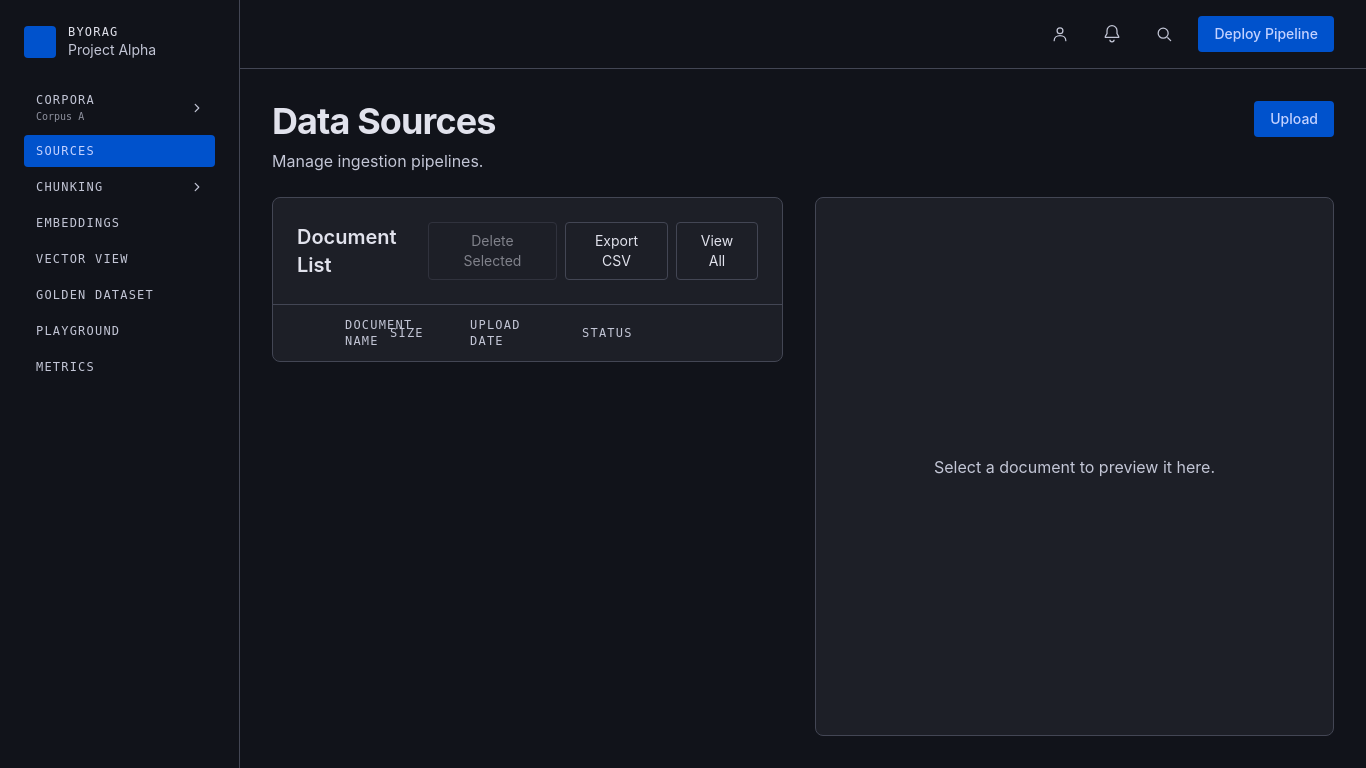
Test: MetricsScreen — every pipeline for the active corpus is visible at once (031-playground-metrics-redesign US2) › shows no in-screen corpus-picker control
This screenshot has width=1366, height=768.
Click the link "METRICS": (66, 367) [36,360,95,374]
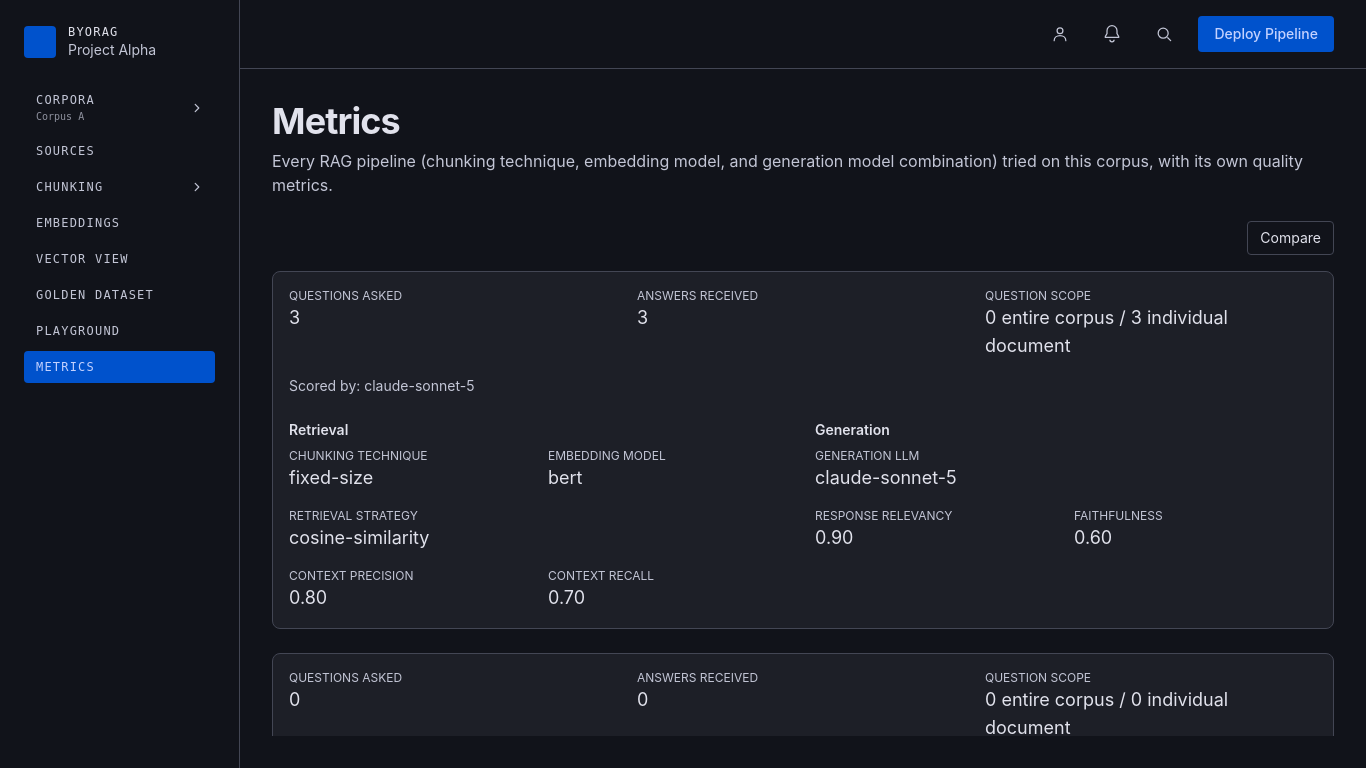
Check: the list item with test id "metrics-pipeline-fixed-size-bert" is shown, box [272,271,1334,629]
